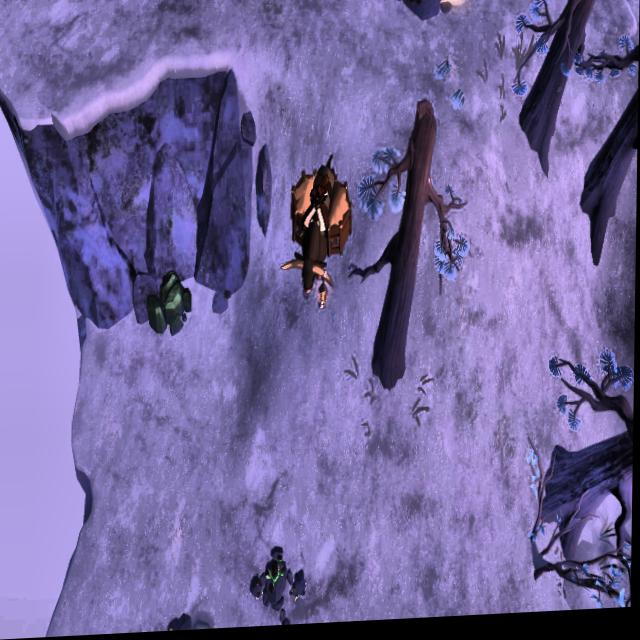rock_t3: (143, 270, 196, 341)
